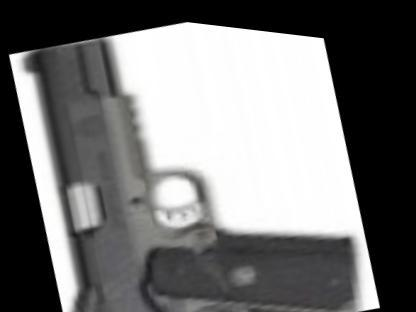pistol: (0, 1, 390, 311)
